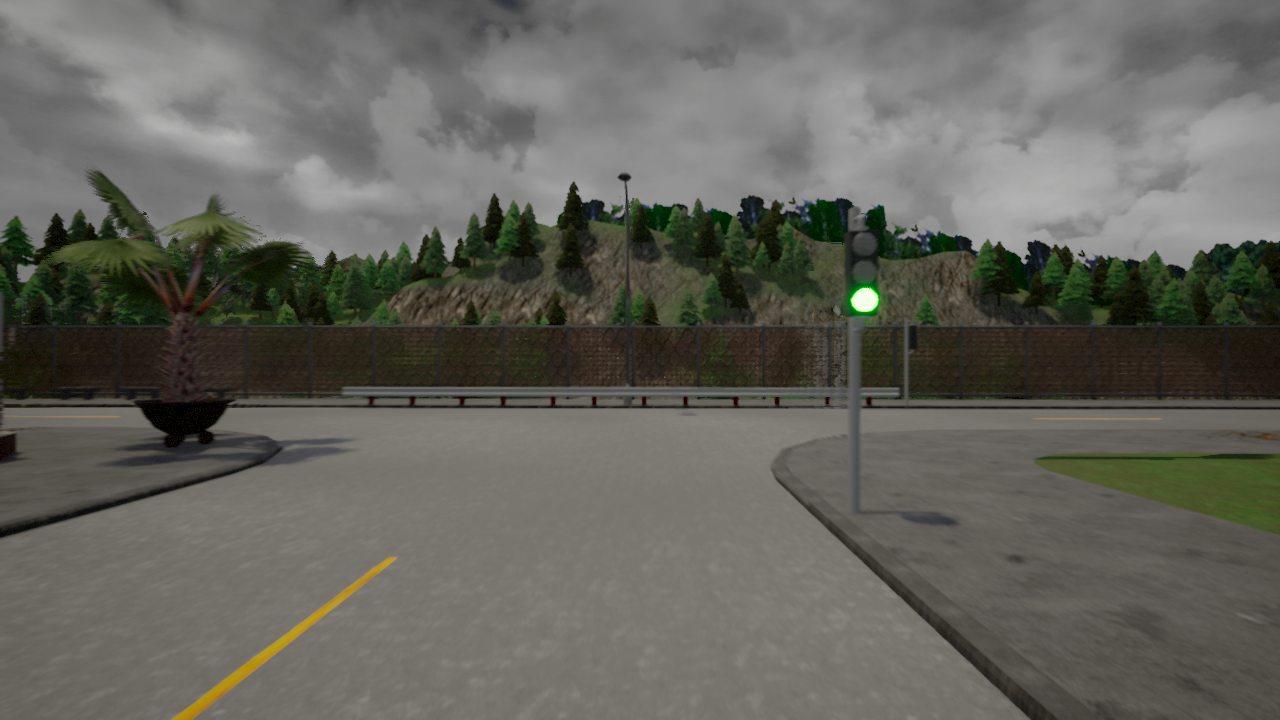green: (840, 229, 879, 318)
